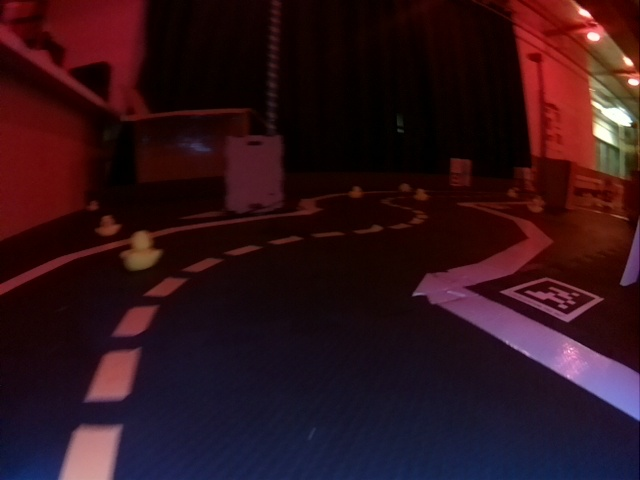Duckie: (121, 232, 161, 271), (96, 216, 120, 236), (415, 188, 427, 201), (351, 187, 361, 197)
QR code: (502, 275, 601, 322)
